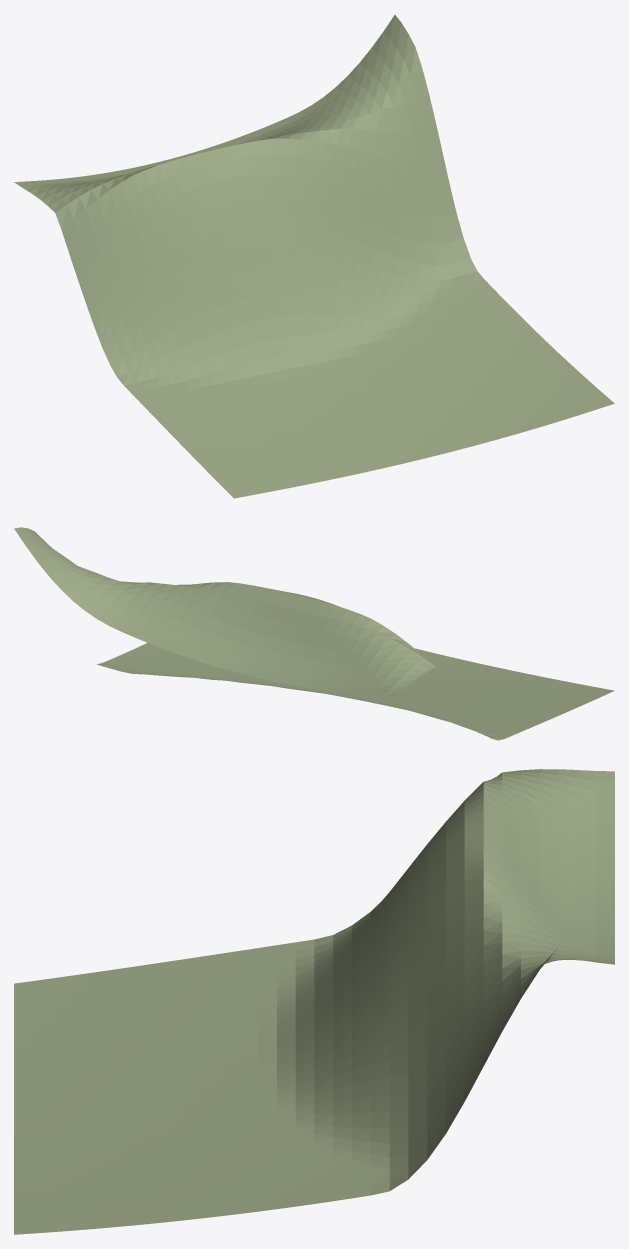
Rendered from alpine-9-12.glb.
3 views of the same model, one above another, from view 1: azimuth 30°, elevation 25°; view 2: azimuth 150°, elevation 25°; view 3: azimuth 270°, elevation 25° (orthographic). The views are drawn at different scales.
Visible parts, largest first — view 1: alpine-9-12; view 2: alpine-9-12; view 3: alpine-9-12.
Part boxes in pixels (x1,y1,x2,y2): alpine-9-12: (14,15,614,498); alpine-9-12: (14,527,614,740); alpine-9-12: (14,769,614,1234).
Bounding box in the file's own units: 256 × 152 × 256.
